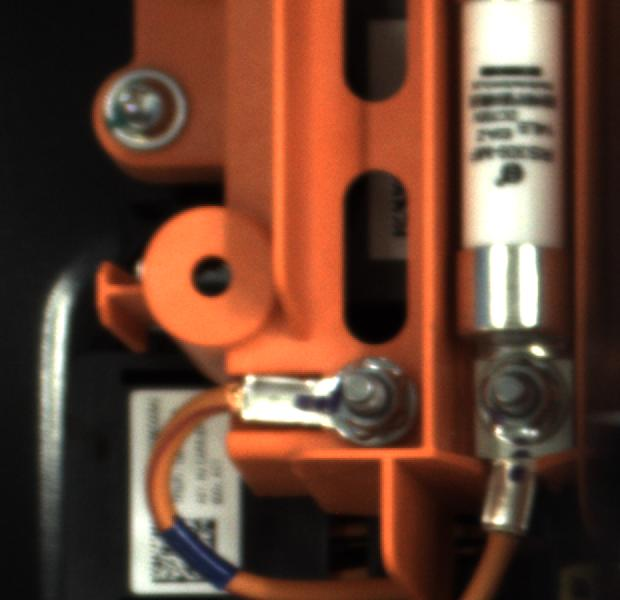screw_m: (87, 67, 211, 156)
screw_s: (474, 349, 568, 441), (318, 353, 409, 442)
